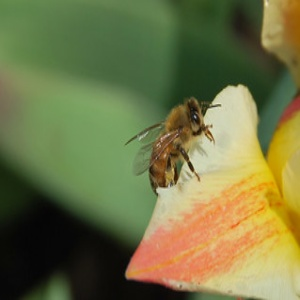bee: (129, 93, 226, 201)
